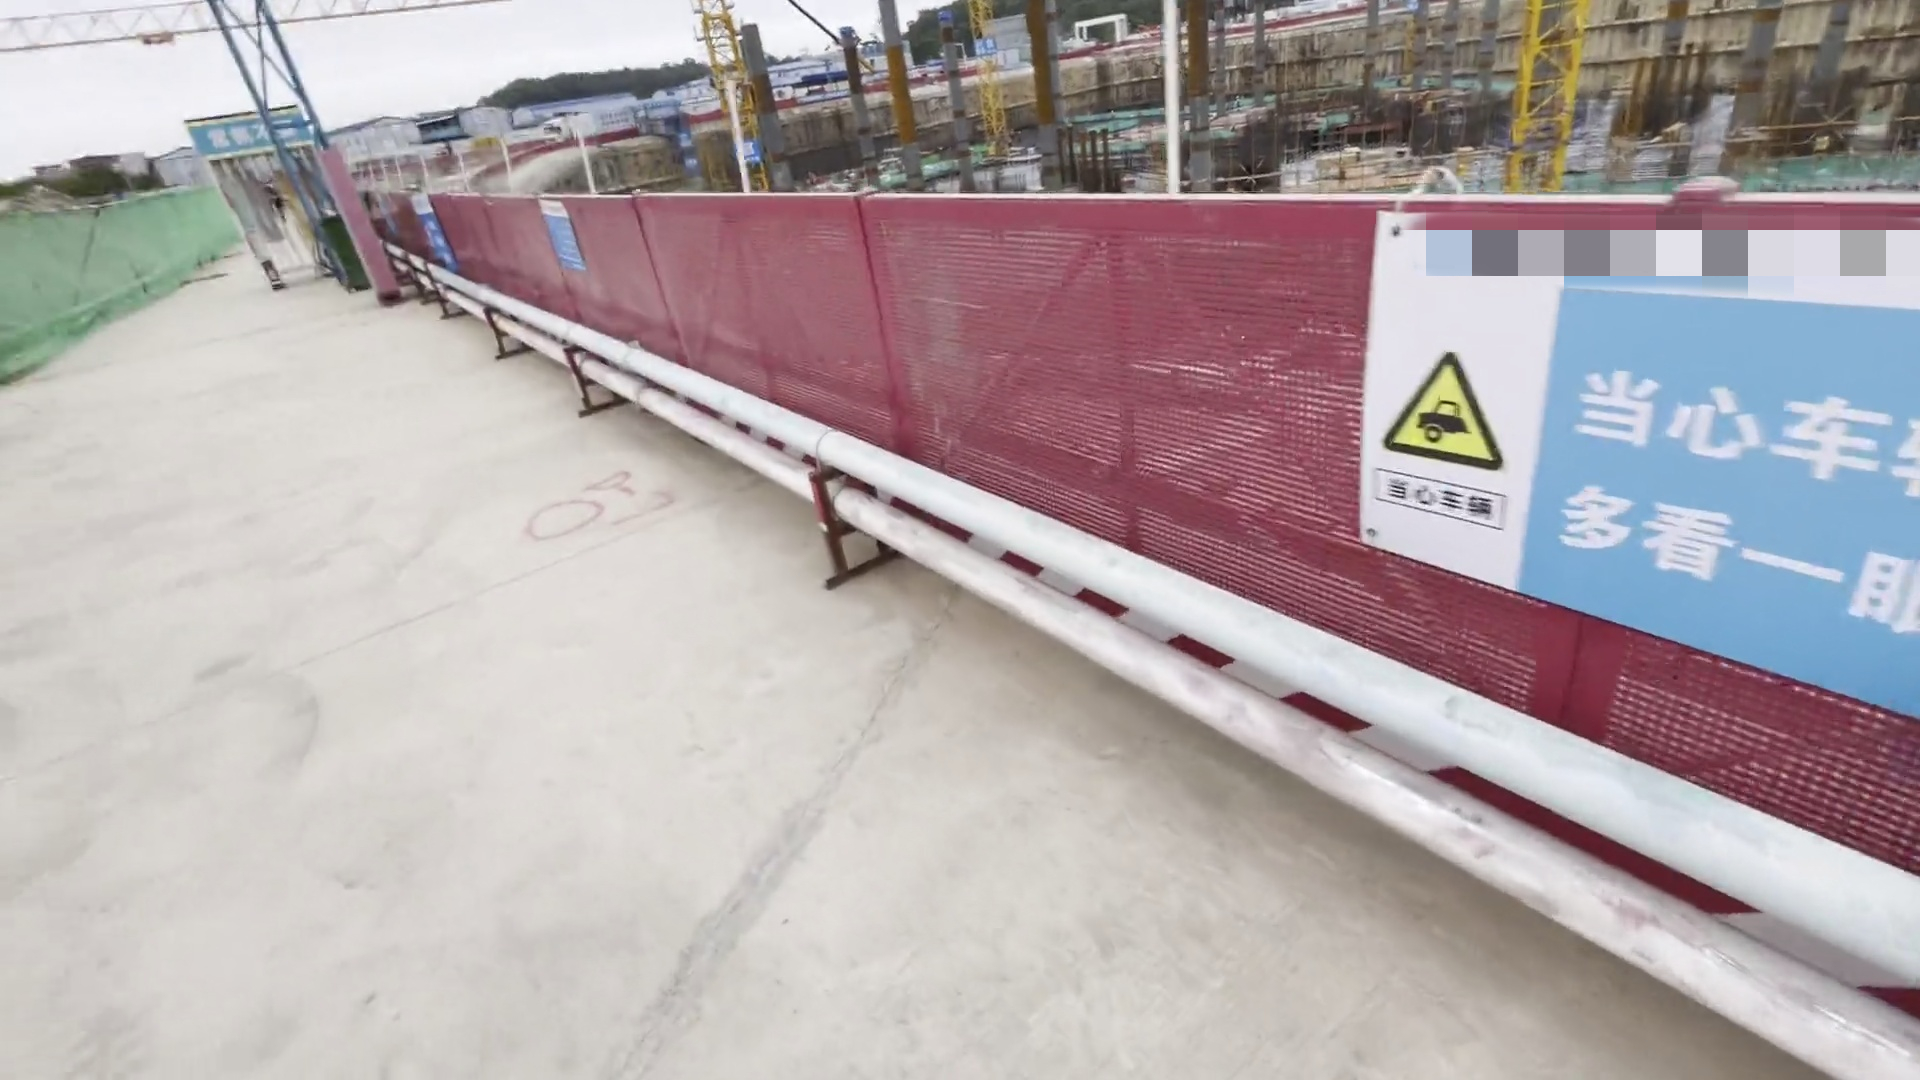fence: (320, 165, 1879, 843)
slogan: (1369, 224, 1920, 651), (181, 105, 315, 154), (407, 189, 467, 273)
